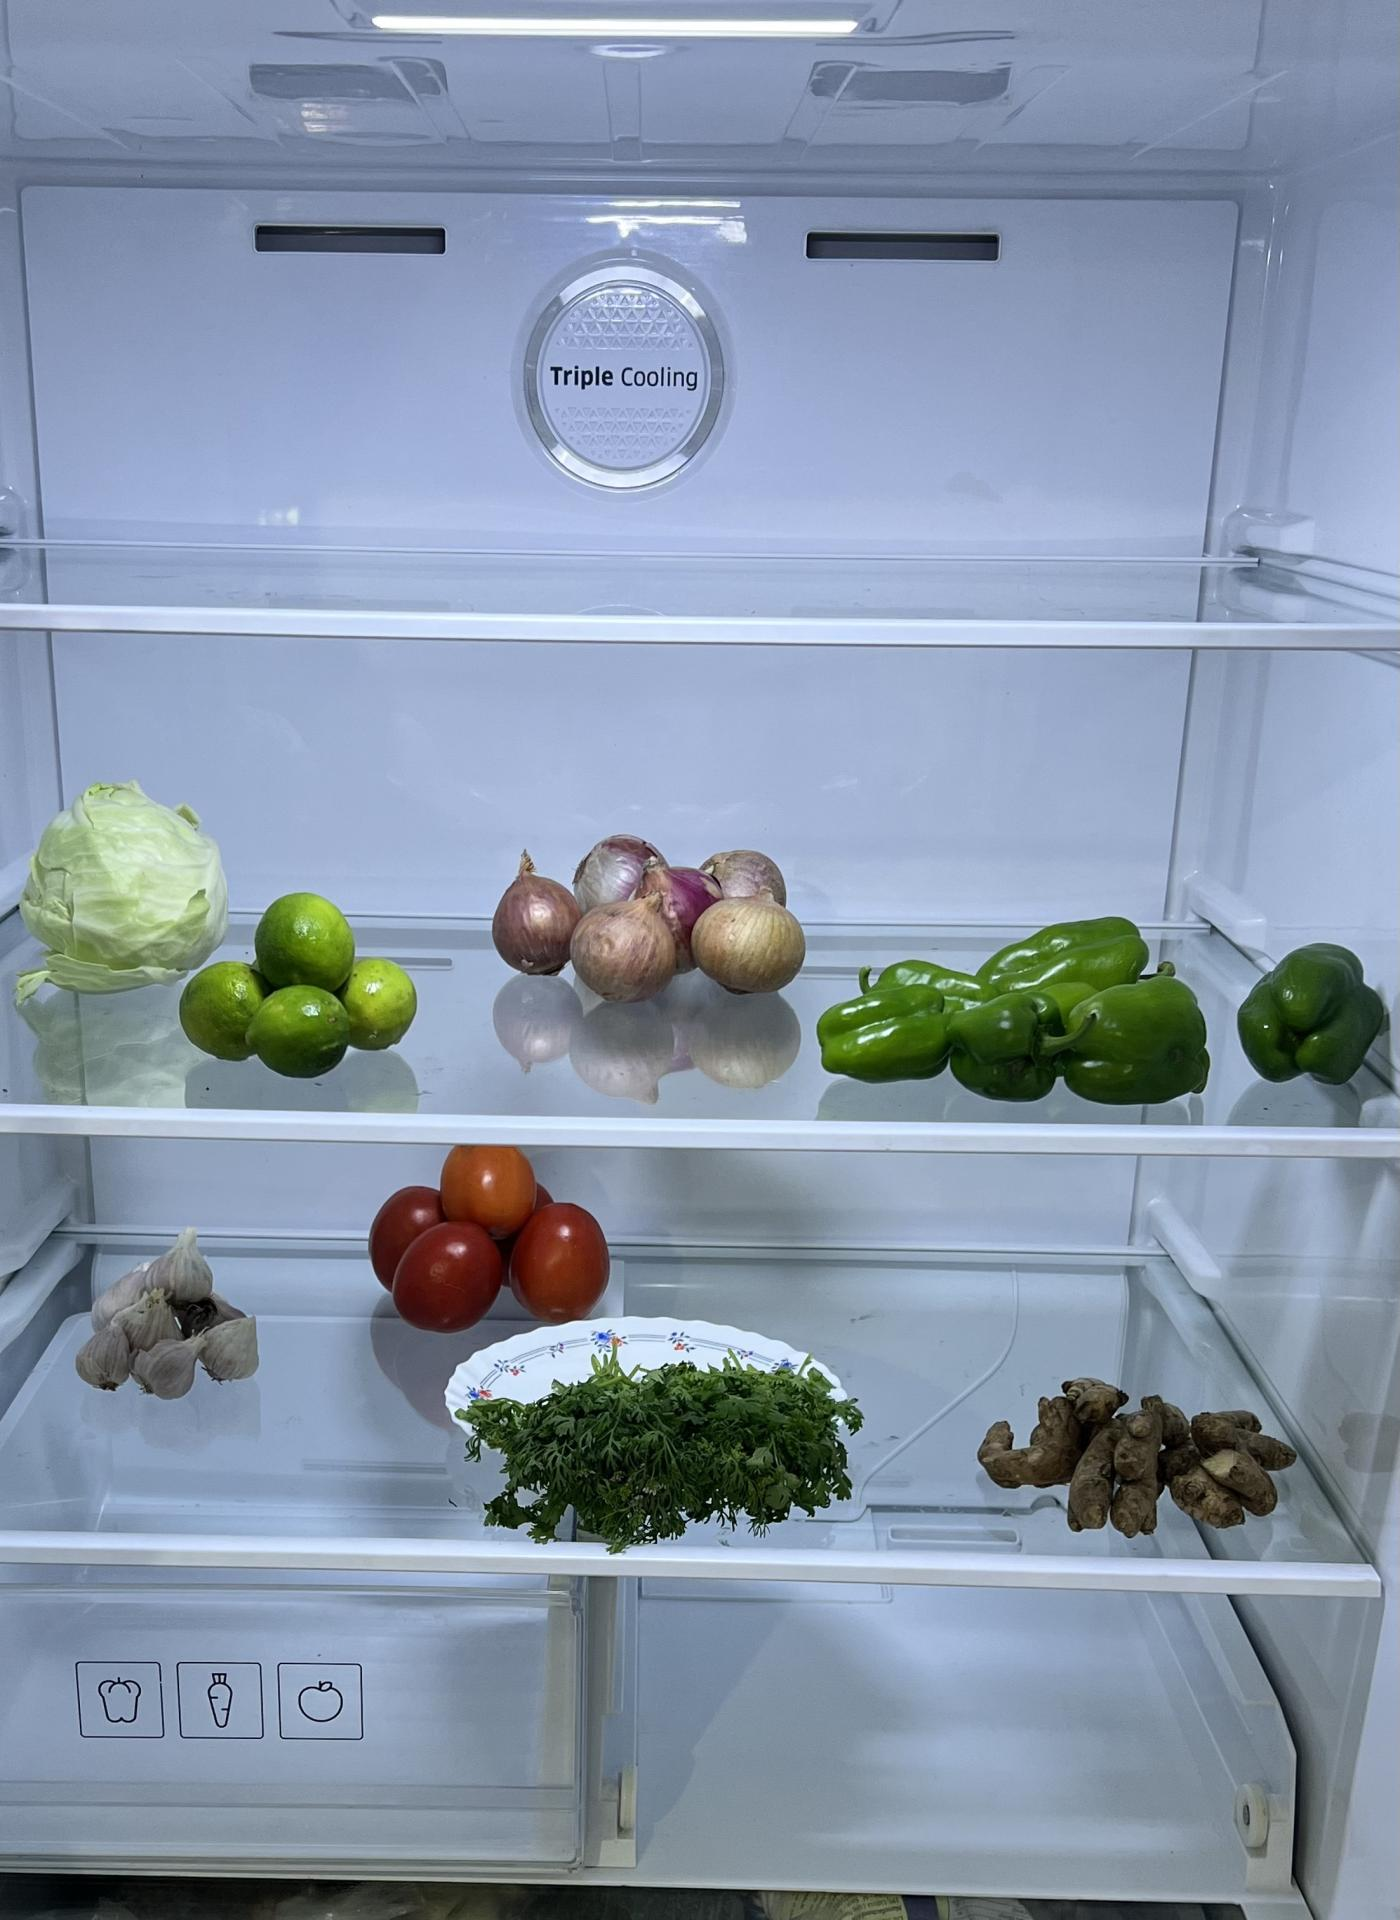cabbage: (30, 775, 234, 991)
capsicum: (810, 912, 1384, 1105)
coriander: (444, 1346, 877, 1538)
garlic: (83, 1225, 259, 1404)
ginger: (975, 1362, 1303, 1538)
lemon: (176, 890, 422, 1081)
onion: (492, 827, 813, 1002)
tomato: (359, 1137, 610, 1331)
